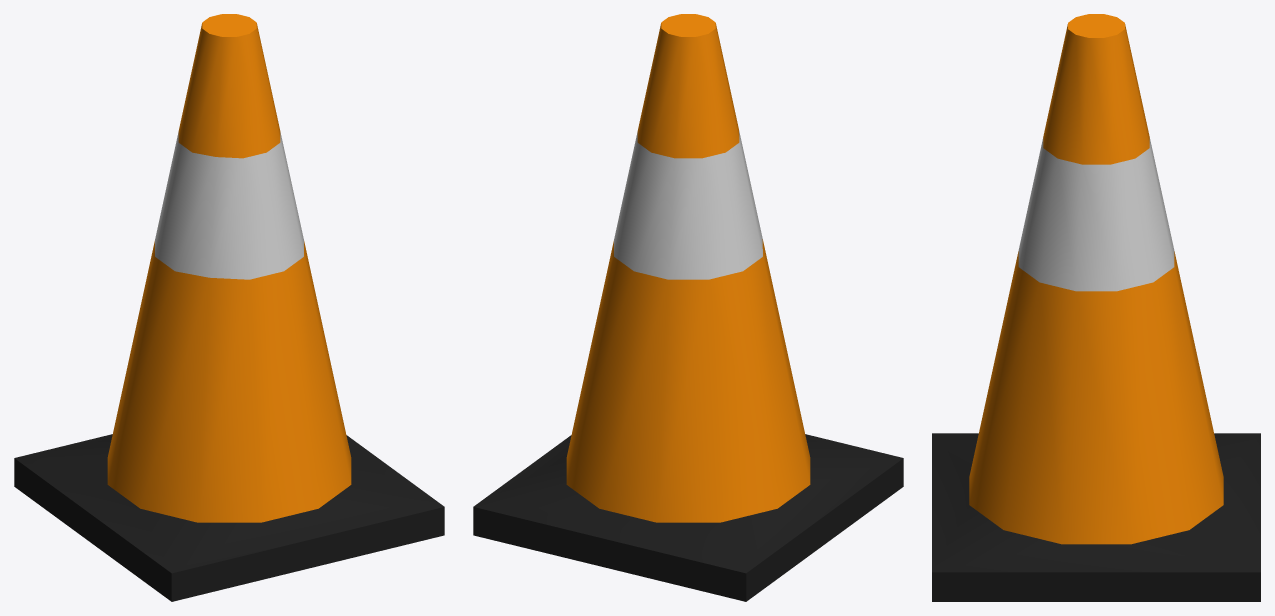
The model's file is Pylon Cone Short.fbx.
3 renders of one model, left to right at view 1: azimuth 30°, elevation 25°; view 2: azimuth 150°, elevation 25°; view 3: azimuth 270°, elevation 25°, orthographic. The views are drawn at different scales.
Parts seen in each view (by area): view 1: _(Loose Entity); view 2: _(Loose Entity); view 3: _(Loose Entity).
Boxes of the visible parts, <box> form: _(Loose Entity): <box>14,14,444,601</box>; _(Loose Entity): <box>473,14,903,601</box>; _(Loose Entity): <box>932,14,1260,601</box>.
Size of the model in its own units: 25 by 42.5 by 25.
